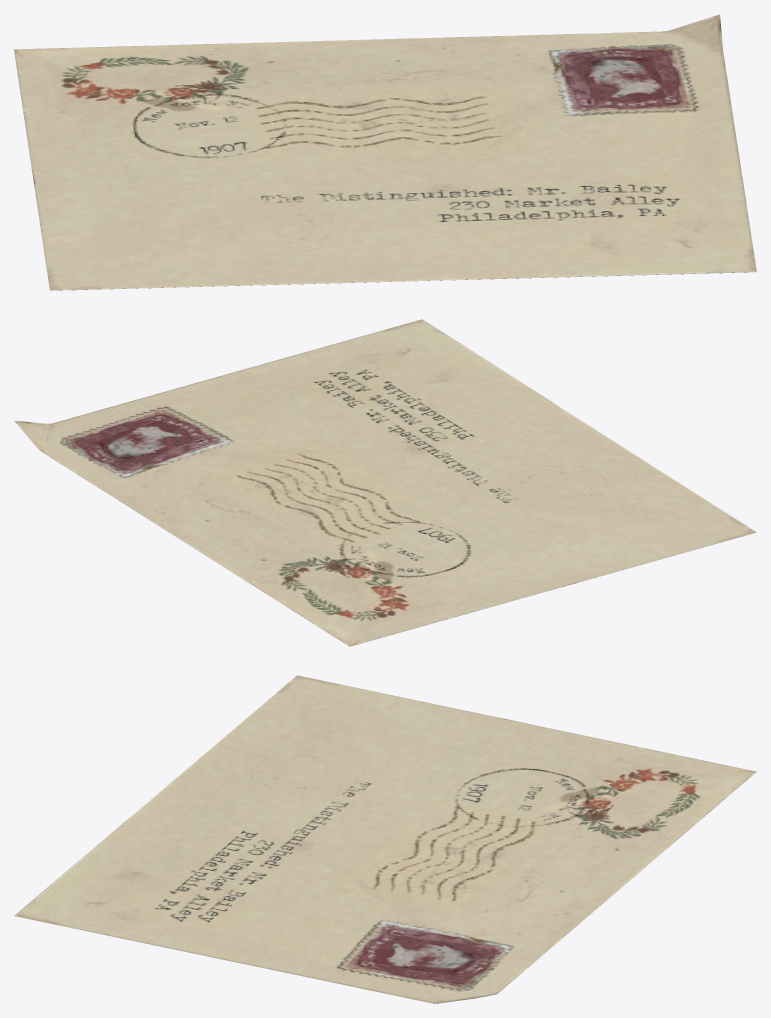
Rendered from Envelope E.fbx.
The picture shows the model from 3 angles, top to bottom: view 1: azimuth 30°, elevation 25°; view 2: azimuth 150°, elevation 25°; view 3: azimuth 270°, elevation 25°; orthographic projection. The views are drawn at different scales.
Visible parts, largest first — view 1: Envelope E; view 2: Envelope E; view 3: Envelope E.
Part boxes in pixels (left/top/right/bottom): Envelope E: left=14, top=14, right=756, bottom=290; Envelope E: left=14, top=319, right=756, bottom=646; Envelope E: left=14, top=675, right=756, bottom=1003.
Bounding box in the file's own units: 18.45 × 0.4267 × 17.19.
Materials: 1 (1 with a texture image).
